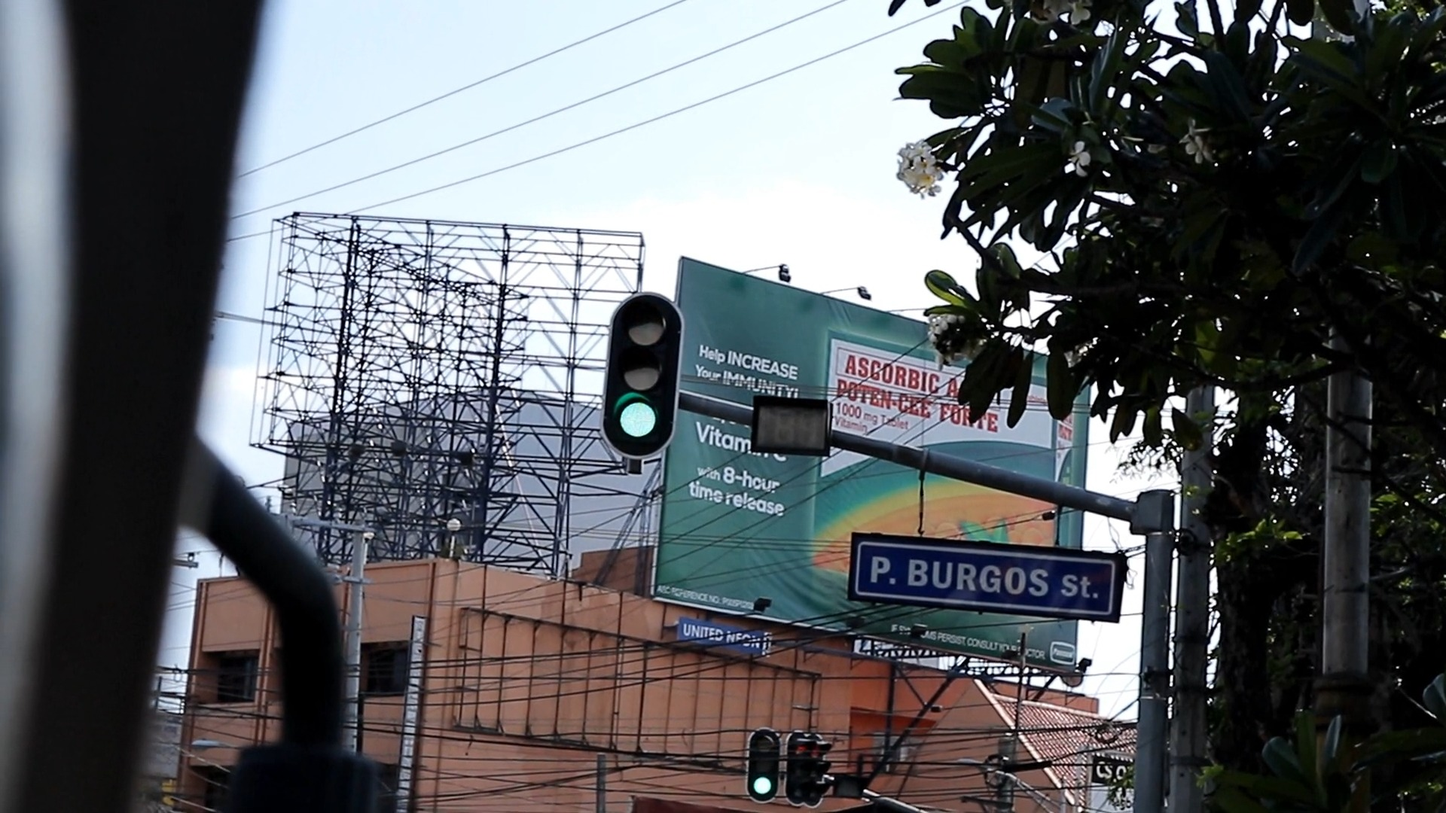green traffic light: (600, 264, 679, 472), (743, 723, 793, 813)
